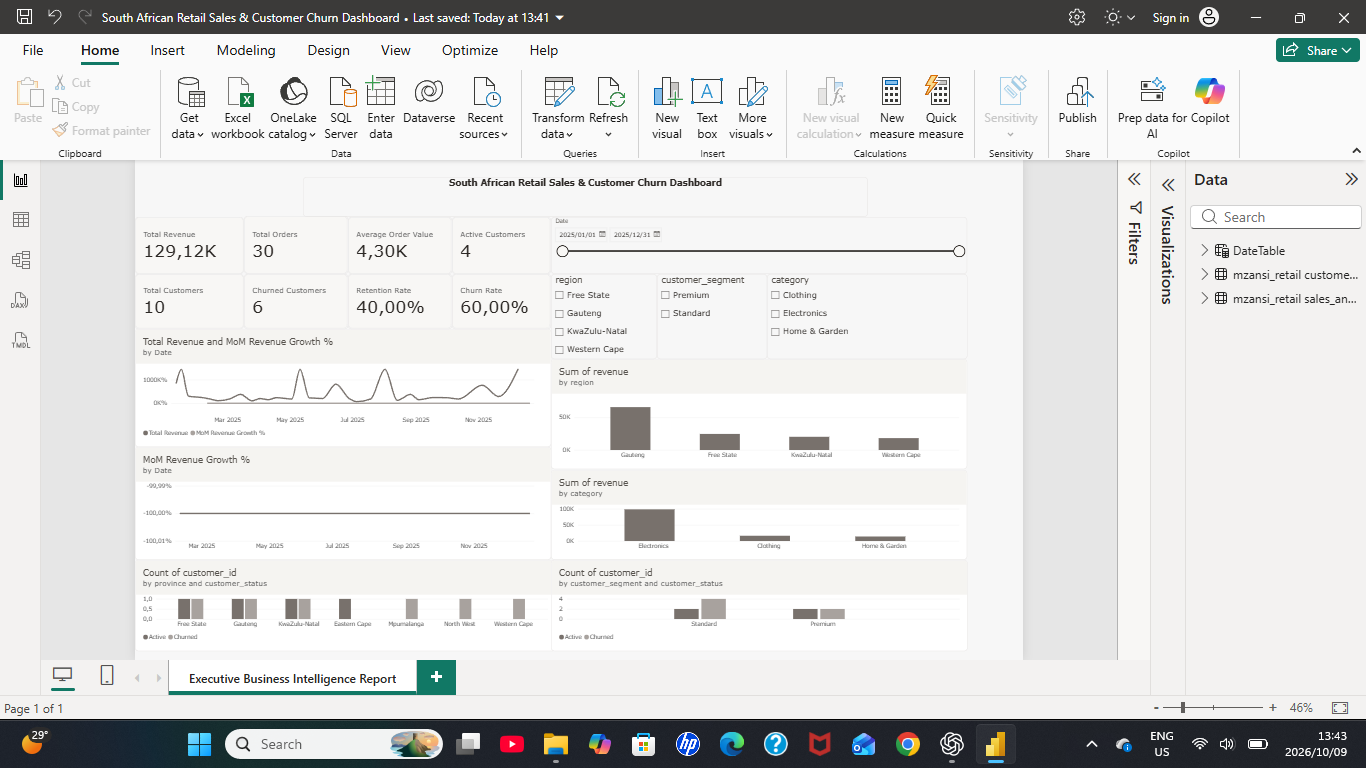

The page's visual inventory and layout, read from the dashboard file:
{"tool":"powerbi","page":{"name":"Executive Business Intelligence Report","canvas":[1920,1080],"ordinal":0},"visuals":[{"type":"cardVisual","fields":{"Data":["mzansi_retail sales_analysis_view.Total Revenue"]},"box":[0,123.1,235.4,123.1],"z":0},{"type":"cardVisual","fields":{"Data":["mzansi_retail sales_analysis_view.Total Orders"]},"box":[235.4,121,224.6,125.3],"z":1000},{"type":"cardVisual","fields":{"Data":["mzansi_retail sales_analysis_view.Average Order Value"]},"box":[460.1,123.1,224.6,123.1],"z":2000},{"type":"lineChart","fields":{"Category":["DateTable.Date"],"Y":["mzansi_retail sales_analysis_view.Total Revenue","mzansi_retail sales_analysis_view.MoM Revenue Growth %"]},"box":[0,365,898.6,254.9],"z":3000},{"type":"lineChart","fields":{"Category":["DateTable.Date"],"Y":["mzansi_retail sales_analysis_view.MoM Revenue Growth %"]},"box":[0,619.9,898.6,244.1],"z":4000},{"type":"cardVisual","fields":{"Data":["mzansi_retail customer_churn_view.Active Customers"]},"box":[684.7,123.1,213.8,123.1],"z":5000},{"type":"cardVisual","fields":{"Data":["mzansi_retail customer_churn_view.Churned Customers"]},"box":[235.4,246.2,224.6,118.8],"z":6000},{"type":"cardVisual","fields":{"Data":["mzansi_retail customer_churn_view.Total Customers"]},"box":[0,246.2,235.4,118.8],"z":7000},{"type":"cardVisual","fields":{"Data":["mzansi_retail customer_churn_view.Retention Rate"]},"box":[460.1,246.2,224.6,118.8],"z":8000},{"type":"cardVisual","fields":{"Data":["mzansi_retail customer_churn_view.Churn Rate"]},"box":[684.7,246.2,213.8,118.8],"z":9000},{"type":"textbox","box":[362.9,36.7,1220.4,86.4],"z":10000},{"type":"clusteredColumnChart","fields":{"Category":["mzansi_retail sales_analysis_view.region"],"Y":["Sum(mzansi_retail sales_analysis_view.revenue)"]},"box":[898.6,429.8,898.6,237.6],"z":11000},{"type":"clusteredColumnChart","fields":{"Category":["mzansi_retail sales_analysis_view.category"],"Y":["Sum(mzansi_retail sales_analysis_view.revenue)"]},"box":[898.6,669.6,898.6,194.4],"z":12000},{"type":"clusteredColumnChart","fields":{"Y":["Count(mzansi_retail customer_churn_view.customer_id)"],"Series":["mzansi_retail customer_churn_view.customer_status"],"Category":["mzansi_retail customer_churn_view.province"]},"box":[0,864,909.4,196.6],"z":13000},{"type":"clusteredColumnChart","fields":{"Y":["CountNonNull(mzansi_retail customer_churn_view.customer_id)"],"Category":["mzansi_retail customer_churn_view.customer_segment"],"Series":["mzansi_retail customer_churn_view.customer_status"]},"box":[899.5,864.3,899.5,196.5],"z":14000},{"type":"slicer","fields":{"Values":["DateTable.Date"]},"box":[898.6,123.1,898.6,123.1],"z":15000},{"type":"slicer","fields":{"Values":["mzansi_retail sales_analysis_view.region"]},"box":[898.6,246.2,229,183.6],"z":16000},{"type":"slicer","fields":{"Values":["mzansi_retail customer_churn_view.customer_segment"]},"box":[1127.5,246.2,237.6,183.6],"z":17000},{"type":"slicer","fields":{"Values":["mzansi_retail sales_analysis_view.category"]},"box":[1365,246,433,184],"z":18000}]}

Visuals, with their boxes on the page's 1920x1080 design canvas (x1, y1, x2, y2). These are canvas units, not pixel positions in the 1366x768 screenshot, which may show the page scaled, cropped or inside an application window:
cardVisual - mzansi_retail sales_analysis_view.Total Revenue: box=[0, 123, 235, 246]
cardVisual - mzansi_retail sales_analysis_view.Total Orders: box=[235, 121, 460, 246]
cardVisual - mzansi_retail sales_analysis_view.Average Order Value: box=[460, 123, 685, 246]
lineChart - DateTable.Date x mzansi_retail sales_analysis_view.Total Revenue: box=[0, 365, 899, 620]
lineChart - DateTable.Date x mzansi_retail sales_analysis_view.MoM Revenue Growth %: box=[0, 620, 899, 864]
cardVisual - mzansi_retail customer_churn_view.Active Customers: box=[685, 123, 898, 246]
cardVisual - mzansi_retail customer_churn_view.Churned Customers: box=[235, 246, 460, 365]
cardVisual - mzansi_retail customer_churn_view.Total Customers: box=[0, 246, 235, 365]
cardVisual - mzansi_retail customer_churn_view.Retention Rate: box=[460, 246, 685, 365]
cardVisual - mzansi_retail customer_churn_view.Churn Rate: box=[685, 246, 898, 365]
textbox: box=[363, 37, 1583, 123]
clusteredColumnChart - mzansi_retail sales_analysis_view.region x Sum(mzansi_retail sales_analysis_view.revenue): box=[899, 430, 1797, 667]
clusteredColumnChart - mzansi_retail sales_analysis_view.category x Sum(mzansi_retail sales_analysis_view.revenue): box=[899, 670, 1797, 864]
clusteredColumnChart - Count(mzansi_retail customer_churn_view.customer_id) x mzansi_retail customer_churn_view.customer_status: box=[0, 864, 909, 1061]
clusteredColumnChart - CountNonNull(mzansi_retail customer_churn_view.customer_id) x mzansi_retail customer_churn_view.customer_segment: box=[900, 864, 1799, 1061]
slicer - DateTable.Date: box=[899, 123, 1797, 246]
slicer - mzansi_retail sales_analysis_view.region: box=[899, 246, 1128, 430]
slicer - mzansi_retail customer_churn_view.customer_segment: box=[1128, 246, 1365, 430]
slicer - mzansi_retail sales_analysis_view.category: box=[1365, 246, 1798, 430]
